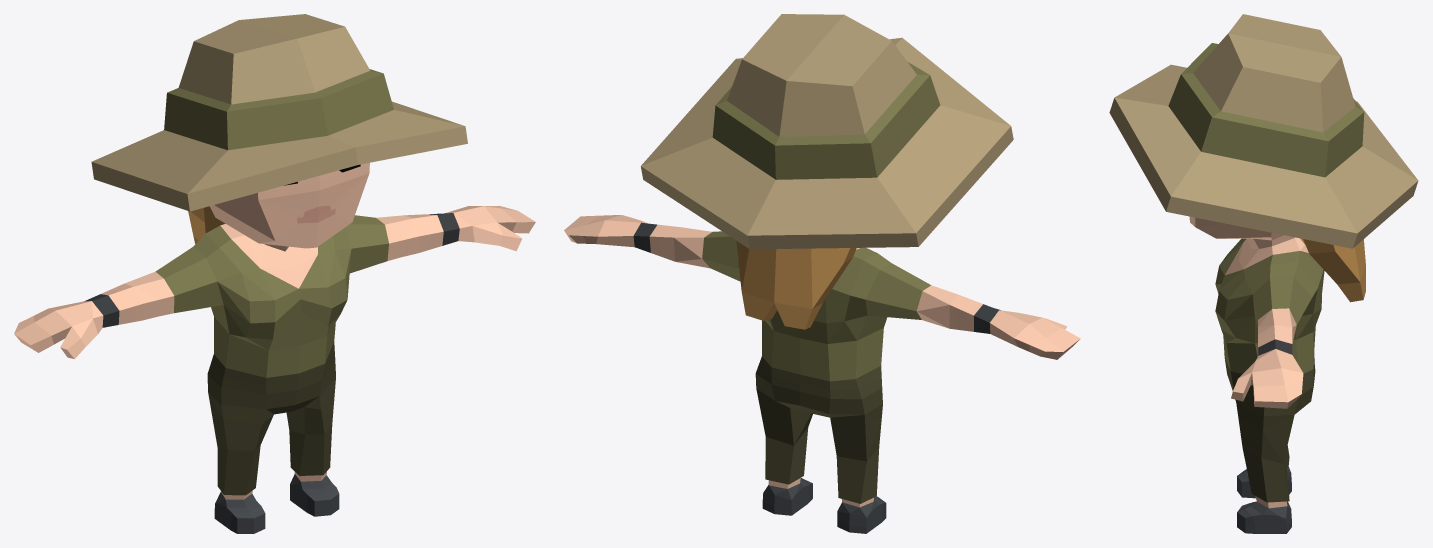
The model's file is ParkRanger_Female.fbx.
3 renders of one model, left to right at view 1: azimuth 30°, elevation 25°; view 2: azimuth 150°, elevation 25°; view 3: azimuth 270°, elevation 25°, orthographic. The views are drawn at different scales.
Parts seen in each view (by area): view 1: ParkRanger_Female; view 2: ParkRanger_Female; view 3: ParkRanger_Female.
Boxes of the visible parts, x1=… form: ParkRanger_Female: x1=14, y1=14, x2=535, y2=533; ParkRanger_Female: x1=564, y1=14, x2=1080, y2=533; ParkRanger_Female: x1=1109, y1=14, x2=1418, y2=533.
Bounding box in the file's own units: 2.13 × 1.97 × 1.16.
